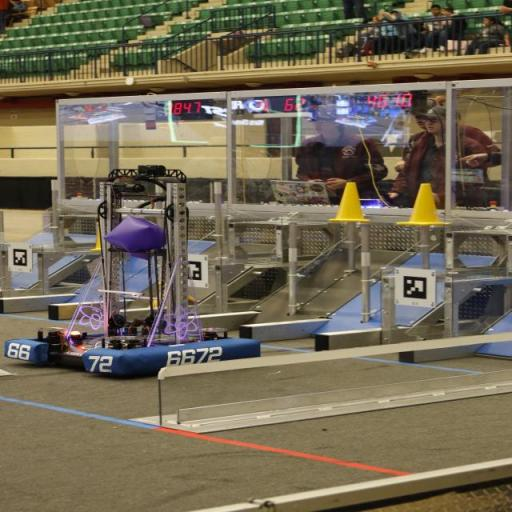robot: (0, 159, 266, 384)
